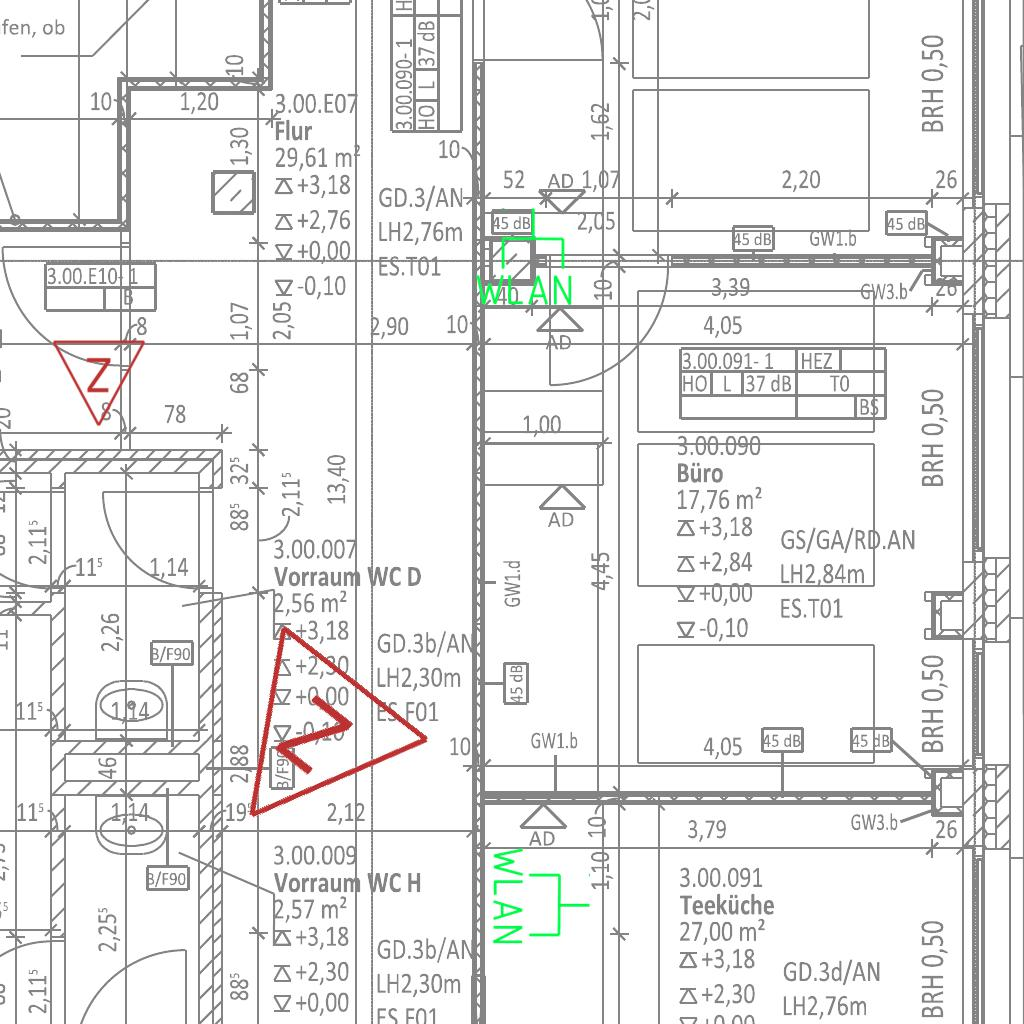WLAN: (489, 843, 593, 948), (471, 205, 576, 309)
Zimmersignalleuchte: (167, 610, 445, 890), (51, 333, 149, 433)
